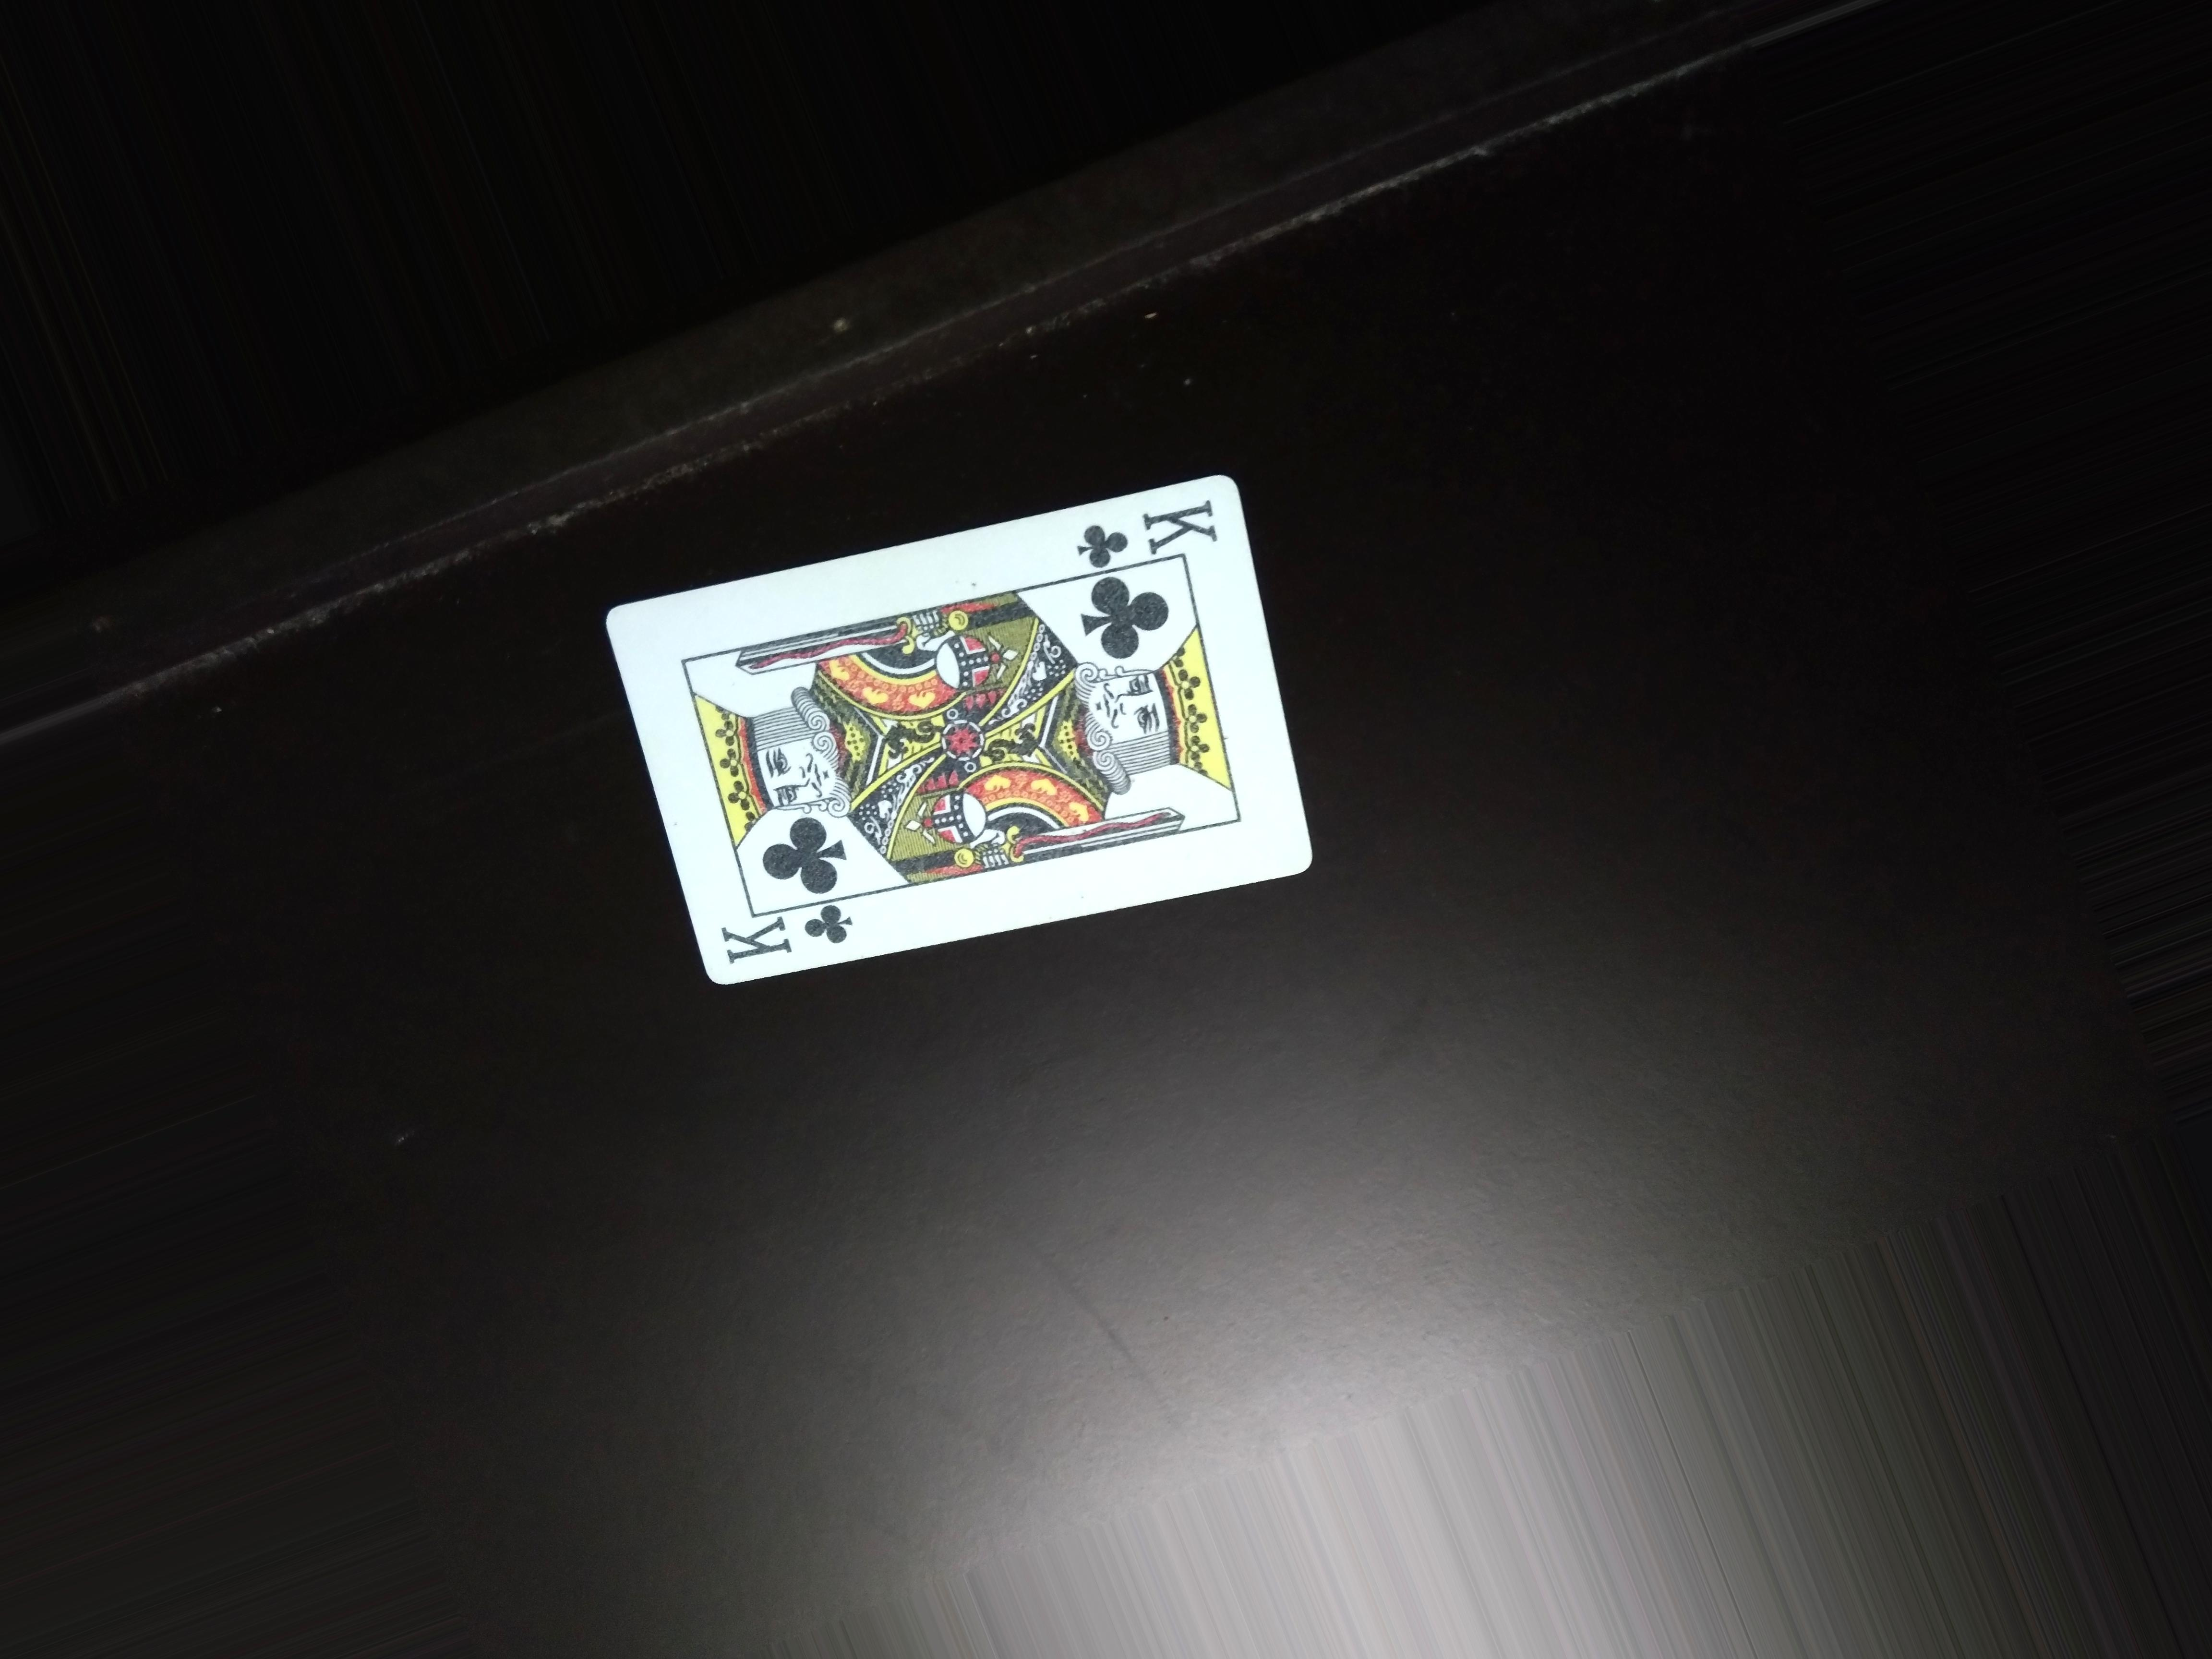KC: (1069, 486, 1238, 572)
